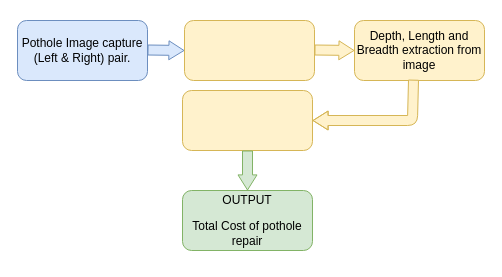
Image size: 502x277. Some labels were removed from this diagram. The shapes that lost their labels are listed below. From the top down, each one's box as (x1, y1, x2, y2) in pixels, then its label:
(184, 20, 314, 80): Pre -Image Processing
(182, 90, 312, 150): Material Estimation (Asphalt).
